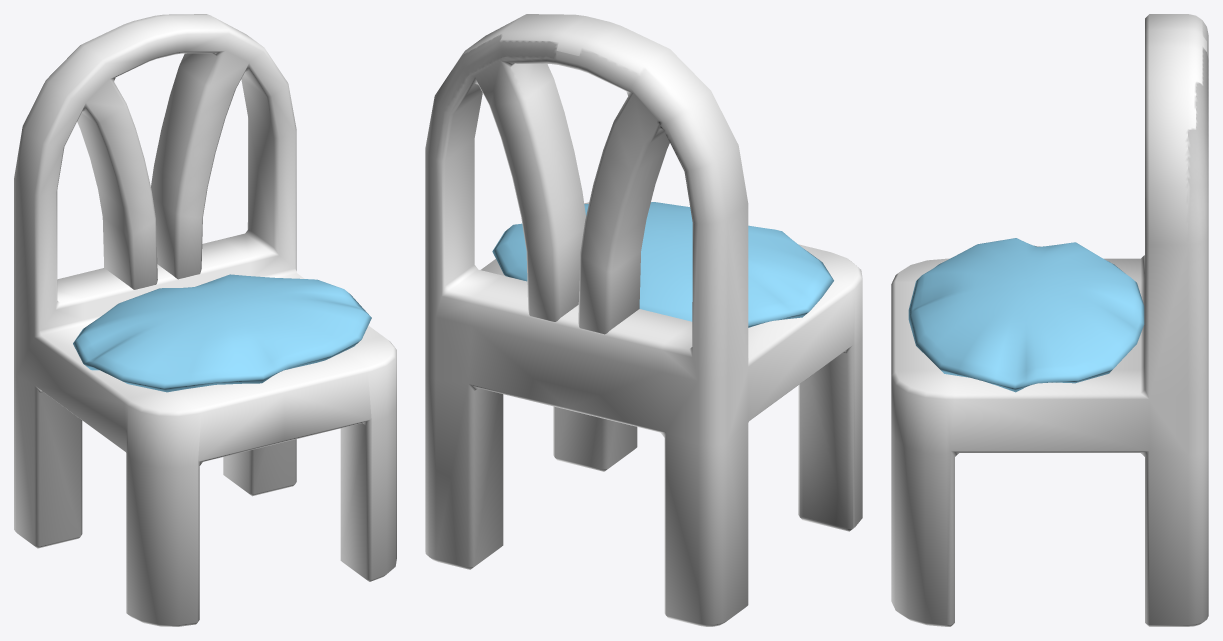
File: basic_chair.glb
3 views of the same model, side by side, from view 1: azimuth 30°, elevation 25°; view 2: azimuth 150°, elevation 25°; view 3: azimuth 270°, elevation 25° (orthographic). The views are drawn at different scales.
Parts seen in each view (by area): view 1: basic_chair; view 2: basic_chair; view 3: basic_chair.
Part boxes in pixels (x1,y1,x2,y2): basic_chair: (14,14,396,626); basic_chair: (425,14,862,626); basic_chair: (891,14,1208,626).
Bounding box in the file's own units: 1.31 × 2.27 × 1.24.
1 material, 1 textured.
